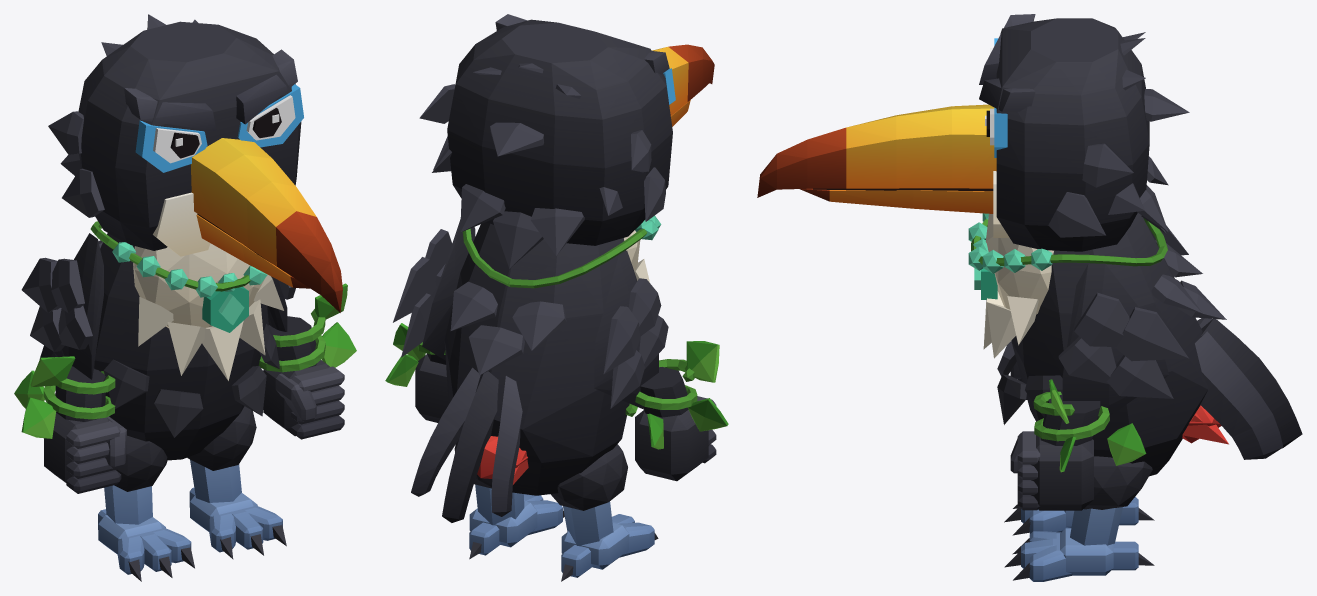
Rendered from ToucanTornado.glb.
3 views of the same model, side by side, from view 1: azimuth 30°, elevation 25°; view 2: azimuth 150°, elevation 25°; view 3: azimuth 270°, elevation 25° (orthographic).
Parts seen in each view (by area): view 1: ToucanTornado; view 2: ToucanTornado; view 3: ToucanTornado.
Part boxes in pixels (x1,y1,x2,y2): ToucanTornado: [14, 14, 356, 581]; ToucanTornado: [385, 14, 728, 581]; ToucanTornado: [757, 14, 1302, 581].
Bounding box in the file's own units: 0.6998 × 1 × 0.9798.
Materials: 1 (1 with a texture image).
